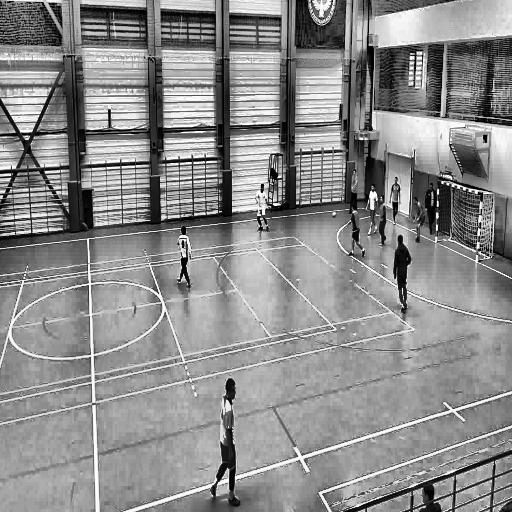ball: (330, 210, 338, 220)
player: (208, 374, 242, 507), (392, 234, 412, 315), (345, 203, 366, 260), (177, 225, 192, 290), (254, 181, 270, 235), (365, 182, 378, 238), (411, 193, 425, 244), (424, 182, 436, 236), (348, 166, 360, 215), (390, 175, 401, 226)
